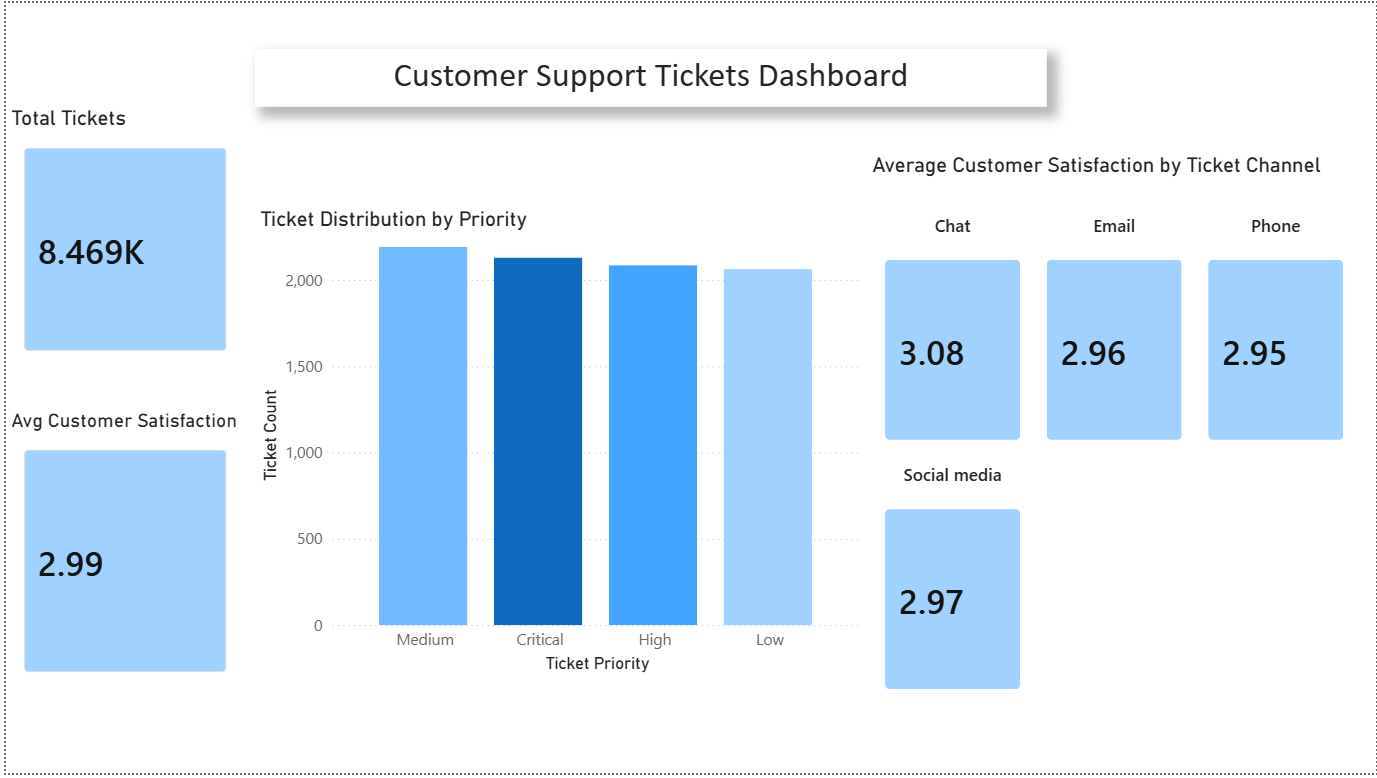

This screenshot's page, from the dashboard's own definition file:
{"tool":"powerbi","page":{"name":"Overview","canvas":[1280,720],"ordinal":0},"visuals":[{"type":"cardVisual","title":"Total Tickets","fields":{"Data":["CountNonNull(customer_support_tickets.Ticket ID)"]},"box":[0,96.7,223.3,246.3],"z":0},{"type":"cardVisual","title":"Avg Customer Satisfaction","fields":{"Data":["Avg(customer_support_tickets.Customer Satisfaction Rating)"]},"box":[0,379.9,223.3,263.6],"z":1000},{"type":"clusteredColumnChart","title":"Ticket Distribution by Priority","fields":{"Category":["customer_support_tickets.Ticket Priority"],"Y":["CountNonNull(customer_support_tickets.Ticket ID)"]},"box":[232.5,191.1,572.1,439.7],"z":2000},{"type":"cardVisual","title":"Average Customer Satisfaction by Ticket Channel","fields":{"Data":["Avg(customer_support_tickets.Customer Satisfaction Rating)"],"Rows":["customer_support_tickets.Ticket Channel"]},"box":[804.6,140.4,460.4,539.9],"z":3000},{"type":"textbox","box":[232.5,42.6,740.1,54.1],"z":4000}]}

Visuals, with their boxes in screenshot pixels (x1, y1, x2, y2), scaled from the page's 1280x720 canvas onto the 1377x778 screenshot:
"Total Tickets" cardVisual: bbox=[0, 104, 240, 371]
"Avg Customer Satisfaction" cardVisual: bbox=[0, 411, 240, 695]
"Ticket Distribution by Priority" clusteredColumnChart: bbox=[250, 206, 866, 682]
"Average Customer Satisfaction by Ticket Channel" cardVisual: bbox=[866, 152, 1361, 735]
textbox: bbox=[250, 46, 1046, 104]
